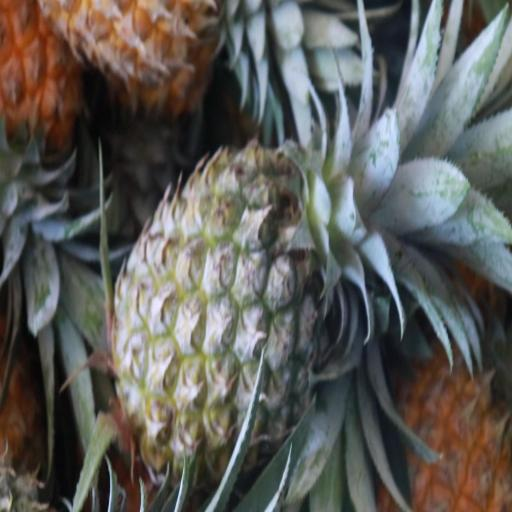------------------------------: (114, 145, 325, 477)
Pineapple - v8 v1: (382, 276, 511, 510)
